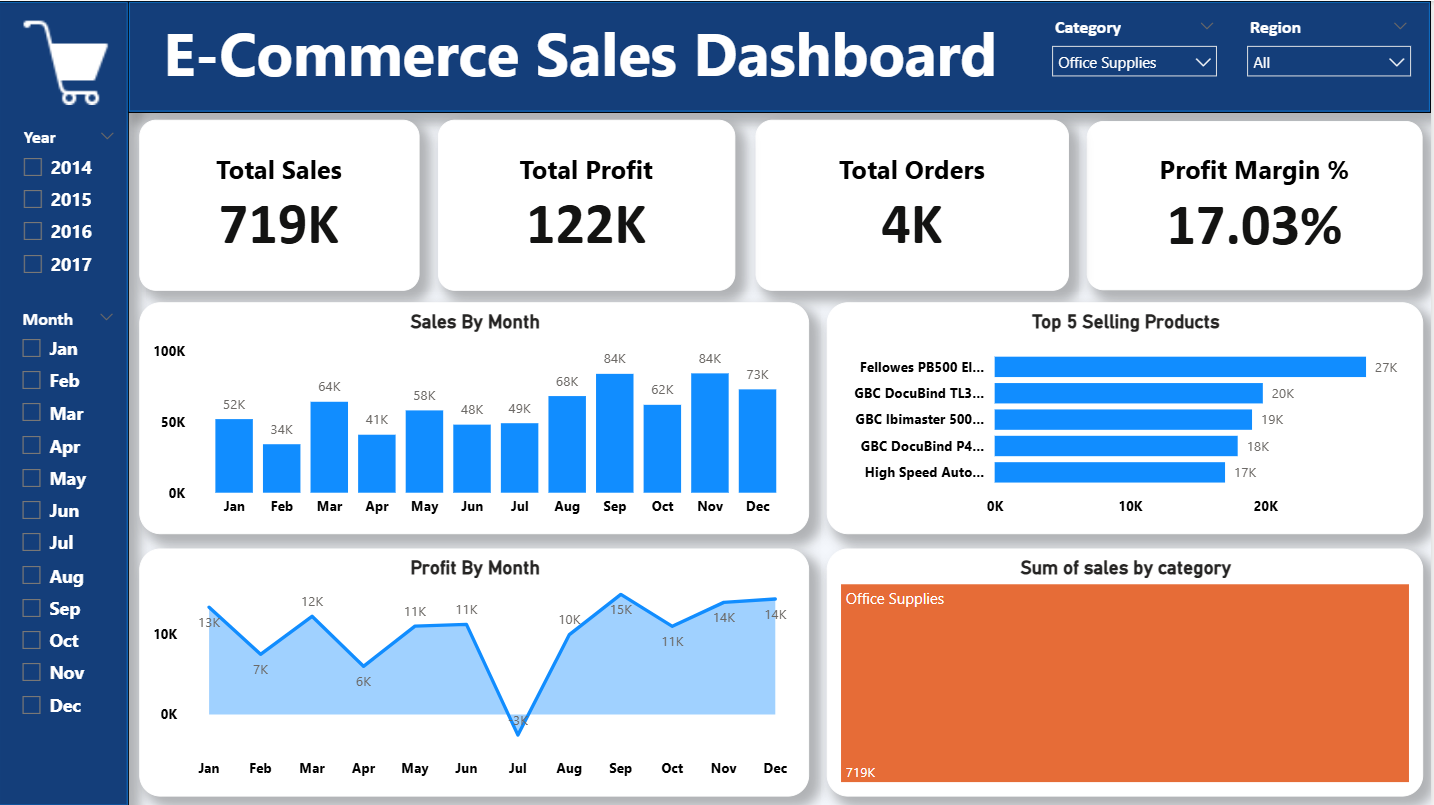

This screenshot's page, from the dashboard's own definition file:
{"tool":"powerbi","page":{"name":"Page 1","canvas":[1280,720],"ordinal":0},"visuals":[{"type":"shape","box":[0,0,117.1,720],"z":0},{"type":"image","box":[147.1,21.4,84.3,77.1],"z":1000},{"type":"shape","box":[115.7,0,1164.3,100],"z":2000},{"type":"slicer","fields":{"Values":["cleaned_dataset.Year"]},"box":[10,106.7,106.7,153.3],"z":3000},{"type":"textbox","box":[117.1,4.3,805.7,91.4],"z":4000},{"type":"slicer","fields":{"Values":["cleaned_dataset.Month"]},"box":[8.6,268.6,107.1,444.3],"z":5000},{"type":"slicer","fields":{"Values":["cleaned_dataset.category"]},"box":[931.4,8.6,167.9,90.7],"z":6000},{"type":"slicer","fields":{"Values":["cleaned_dataset.region"]},"box":[1105.7,8.6,166.4,90.7],"z":7000},{"type":"cardVisual","fields":{"Data":["cleaned_dataset.Total Sales"]},"box":[125.7,105.7,250,152.9],"z":8000},{"type":"cardVisual","fields":{"Data":["cleaned_dataset.Profit Margin %"]},"box":[972.9,107.1,300,151.4],"z":9000},{"type":"cardVisual","fields":{"Data":["cleaned_dataset.Total Orders"]},"box":[677.1,105.7,280,152.9],"z":10000},{"type":"cardVisual","fields":{"Data":["cleaned_dataset.Total Profit"]},"box":[392.9,105.7,265.7,152.9],"z":11000},{"type":"columnChart","title":"Sales By Month","fields":{"Y":["Sum(cleaned_dataset.sales)"],"Category":["cleaned_dataset.Month"]},"box":[125.7,268.6,598.6,207.1],"z":12000},{"type":"areaChart","title":"Profit By Month","fields":{"Category":["cleaned_dataset.Month"],"Y":["Sum(cleaned_dataset.profit)"]},"box":[125.7,488.6,598.6,221.4],"z":13000},{"type":"clusteredBarChart","title":"Top 5 Selling Products","fields":{"Category":["cleaned_dataset.product_name"],"Y":["Sum(cleaned_dataset.sales)"]},"box":[740,268.6,532.9,207.1],"z":14000},{"type":"treemap","fields":{"Group":["cleaned_dataset.category"],"Values":["Sum(cleaned_dataset.sales)"]},"box":[740,488.6,532.9,221.4],"z":15000},{"type":"image","box":[15.7,14.3,92.9,78.6],"z":16000}]}

Visuals, with their boxes in screenshot pixels (x1, y1, x2, y2), scaled from the page's 1280x720 canvas onto the 1434x805 screenshot:
shape: BBox(0, 0, 131, 804)
image: BBox(165, 24, 259, 110)
shape: BBox(130, 0, 1433, 112)
slicer - cleaned_dataset.Year: BBox(11, 119, 131, 291)
textbox: BBox(131, 5, 1034, 107)
slicer - cleaned_dataset.Month: BBox(10, 300, 130, 797)
slicer - cleaned_dataset.category: BBox(1043, 10, 1232, 111)
slicer - cleaned_dataset.region: BBox(1239, 10, 1425, 111)
cardVisual - cleaned_dataset.Total Sales: BBox(141, 118, 421, 289)
cardVisual - cleaned_dataset.Profit Margin %: BBox(1090, 120, 1426, 289)
cardVisual - cleaned_dataset.Total Orders: BBox(759, 118, 1072, 289)
cardVisual - cleaned_dataset.Total Profit: BBox(440, 118, 738, 289)
"Sales By Month" columnChart: BBox(141, 300, 811, 532)
"Profit By Month" areaChart: BBox(141, 546, 811, 794)
"Top 5 Selling Products" clusteredBarChart: BBox(829, 300, 1426, 532)
treemap - cleaned_dataset.category x Sum(cleaned_dataset.sales): BBox(829, 546, 1426, 794)
image: BBox(18, 16, 122, 104)
